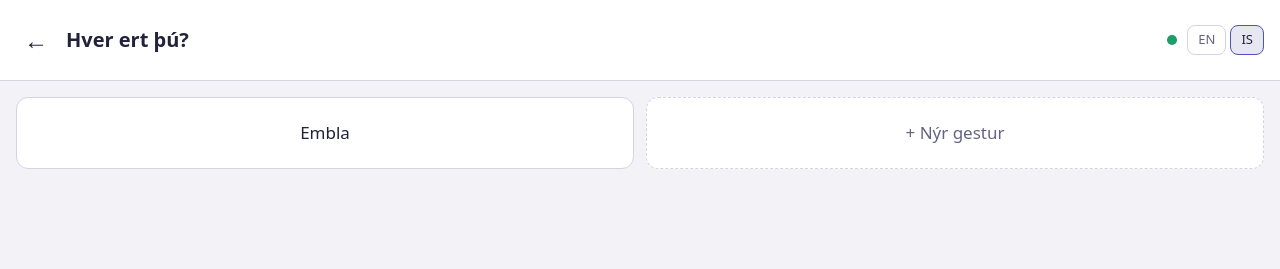
Test: PickUser › creates a new guest and starts the run as them
Click the button "+ Nýr gestur" at coordinates (955, 133), box left=646, top=97, right=1264, bottom=168
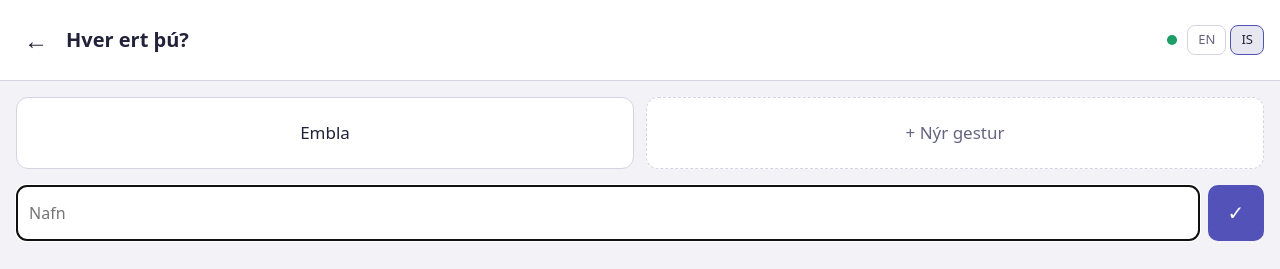
Type "Kári" into the field at coordinates (608, 212), box left=16, top=184, right=1200, bottom=240
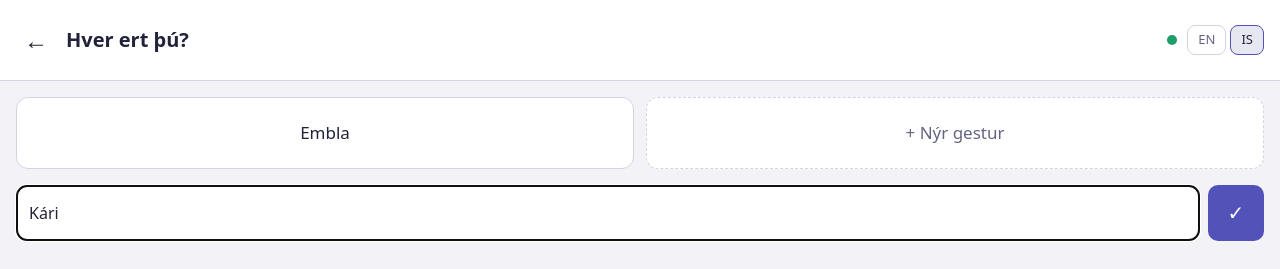
Click the button named "OK" at coordinates (1236, 212), box left=1208, top=184, right=1264, bottom=240
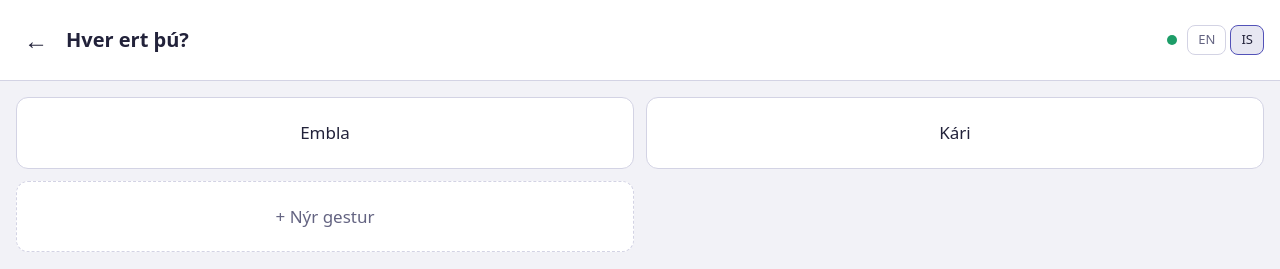
Expected: the button "Kári" is shown, left=646, top=97, right=1264, bottom=168
